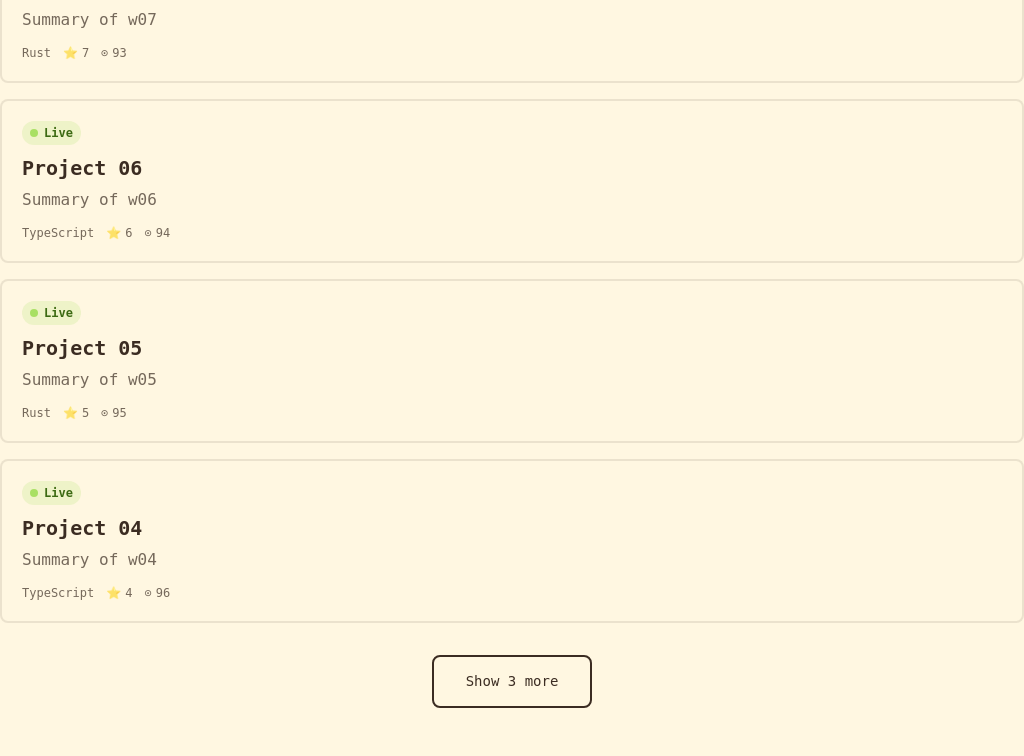
Test: FilterSort island › show-more (LIMIT=12) › expands to all 15 and switches the label to "Show less" on click
The width and height of the screenshot is (1024, 756).
(page scrolled)
Click the button with class "show-more-btn" at (512, 682), box [432,655,592,708]
(page scrolled)
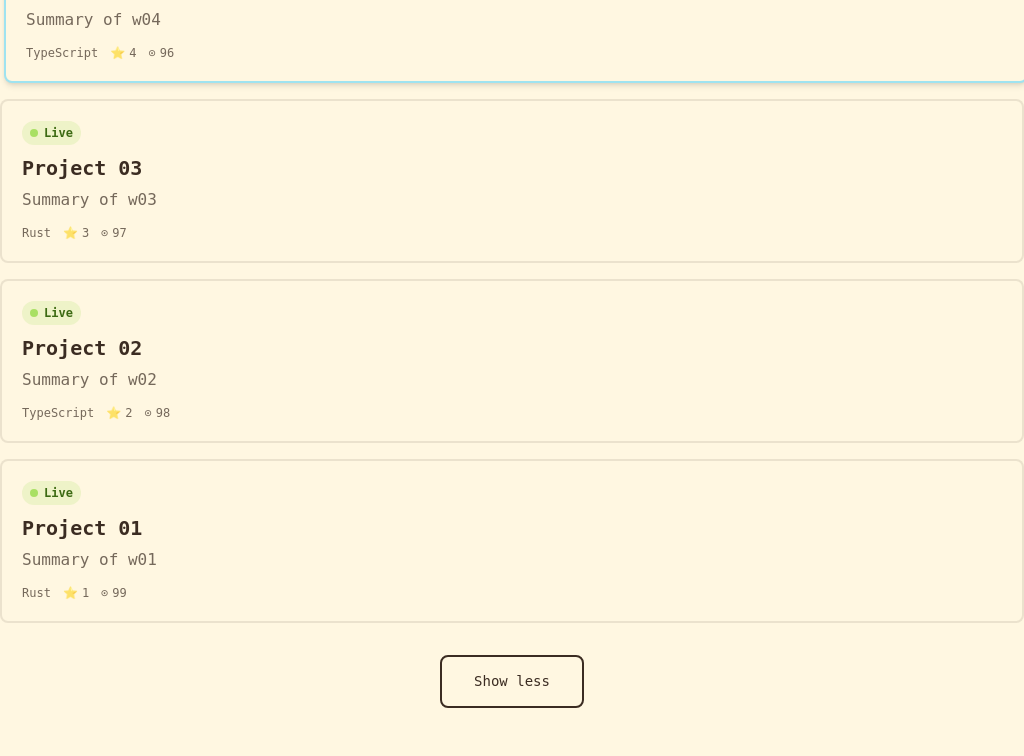
Now the button with class "show-more-btn" reads "Show less", box [440,655,584,708]
